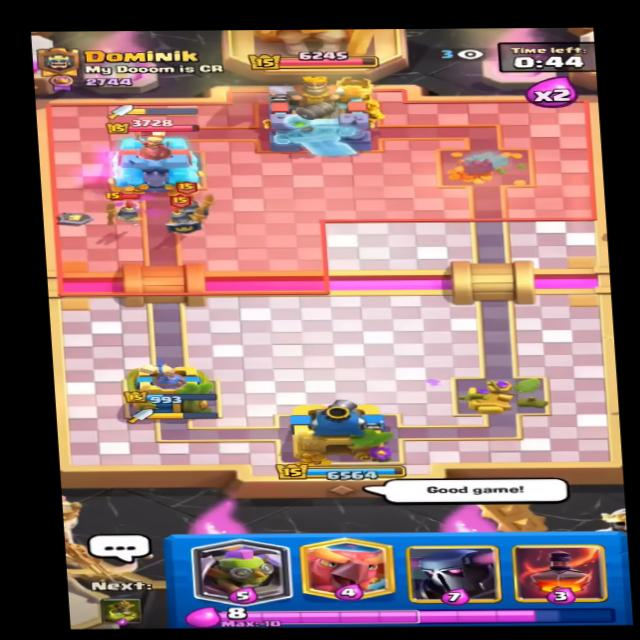guards: (164, 205, 204, 235), (178, 188, 214, 217), (109, 198, 144, 226)
